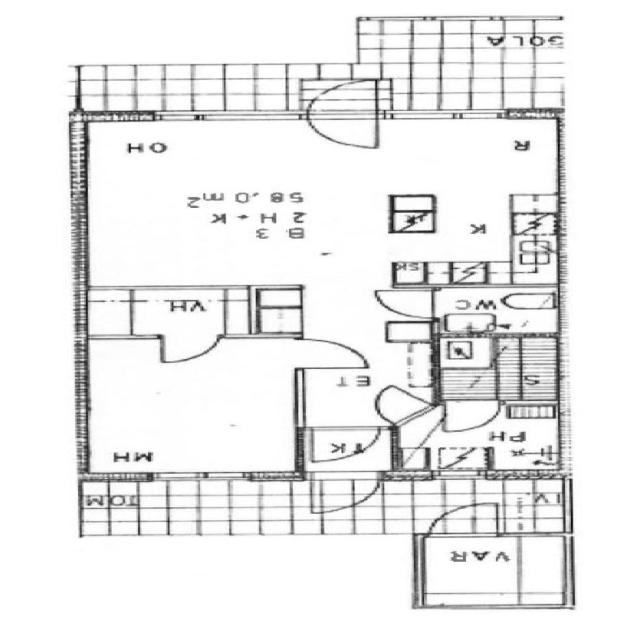door: (423, 397, 535, 459), (298, 80, 390, 153), (291, 421, 390, 469), (304, 469, 382, 516), (366, 284, 448, 322), (422, 505, 506, 542), (291, 337, 374, 372), (438, 397, 505, 436), (152, 332, 226, 367)
window: (135, 108, 300, 128), (391, 105, 518, 126), (140, 468, 258, 486)
zone: (65, 118, 573, 290), (79, 339, 307, 479), (413, 534, 573, 612), (407, 406, 565, 479), (434, 336, 562, 402), (432, 286, 561, 337)
